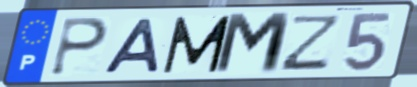5: (339, 10, 397, 73)
A: (101, 17, 163, 76)
M: (211, 10, 295, 77), (160, 14, 234, 76)
P: (47, 17, 111, 78)
Z: (276, 13, 346, 72)
